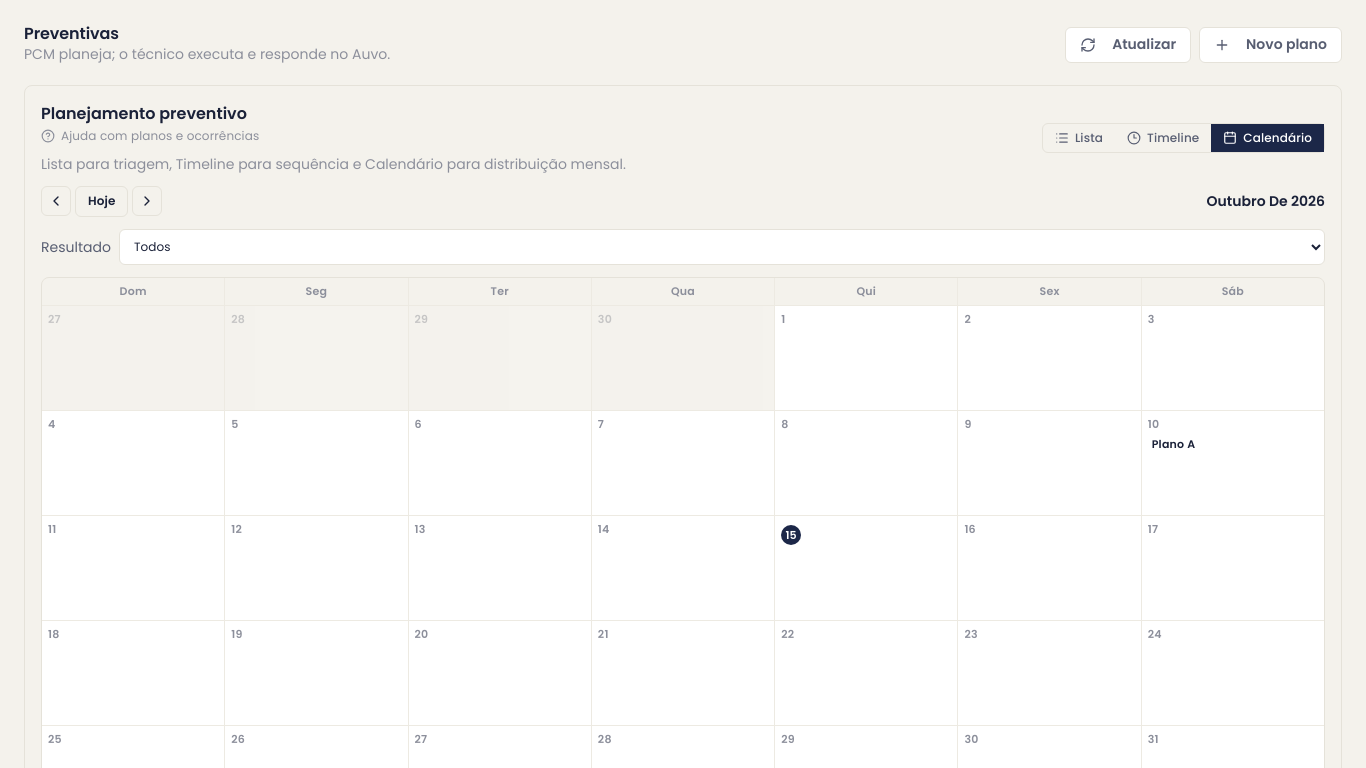
Test case: PreventivasWorkspace — E01-S53 / E01-S163 AC-10 e AC-15 › AC-11: abre a OS associada sem manter o drawer preventivo sobreposto
Click the button "Calendário" at (1268, 138), box [1211,124,1324,152]
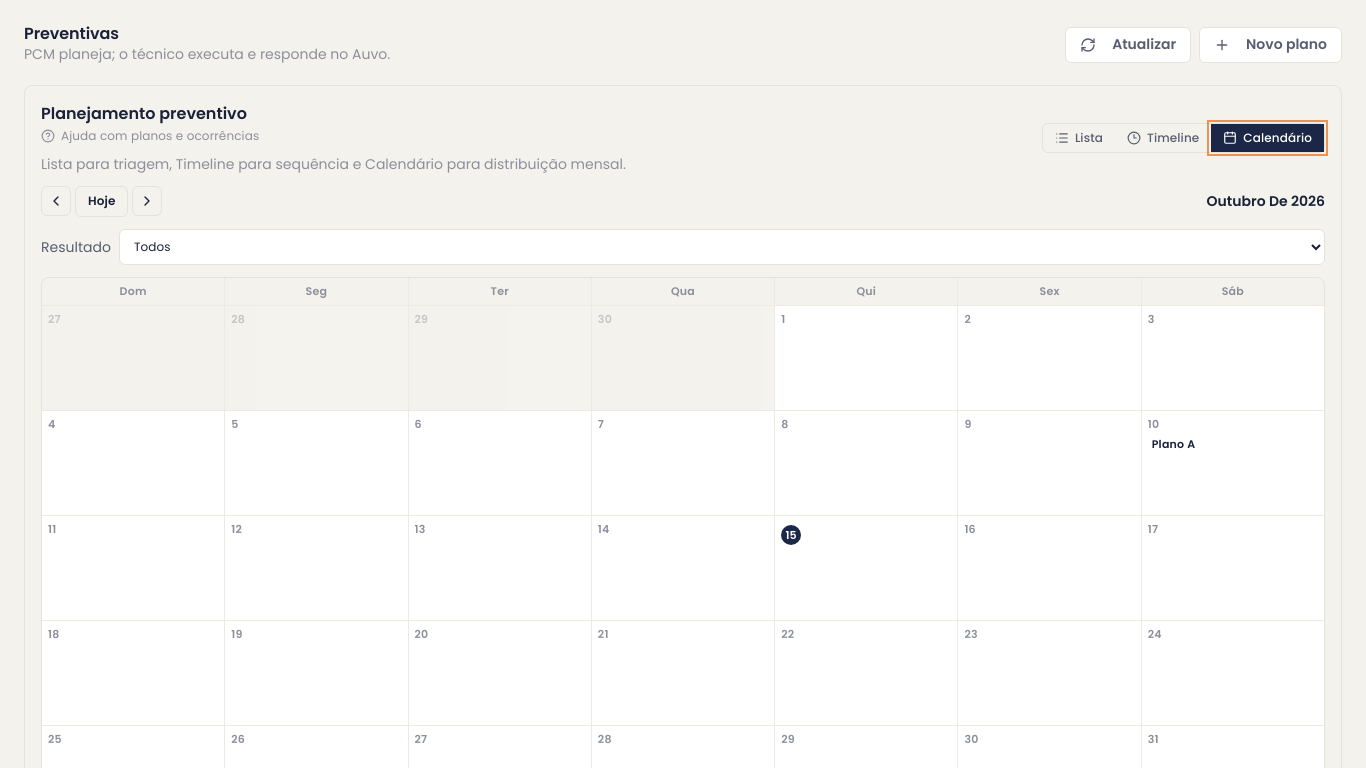
Click the button with aria-label "Plano A: No Auvo" at (1233, 445), box [1148,436,1318,454]
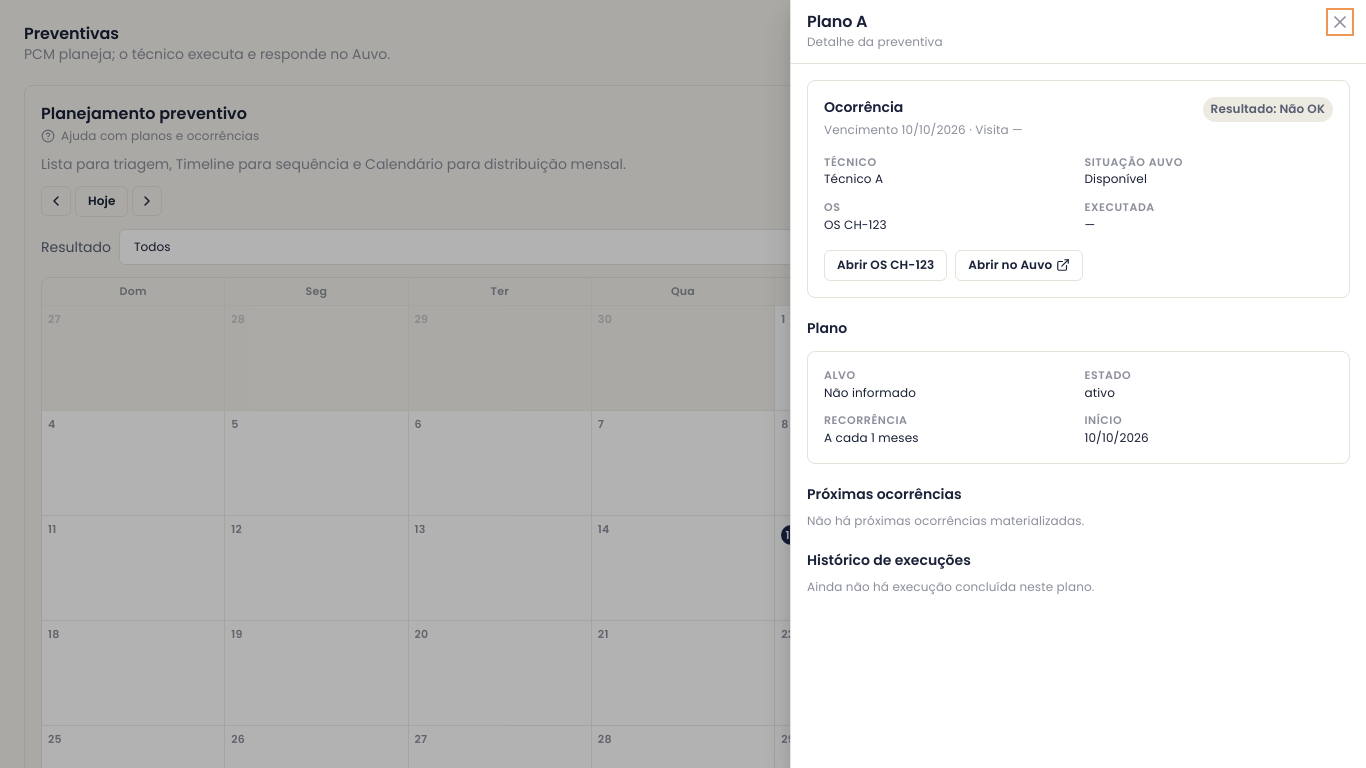
Click the button "Abrir OS CH-123" at (886, 265), box [824,250,947,281]
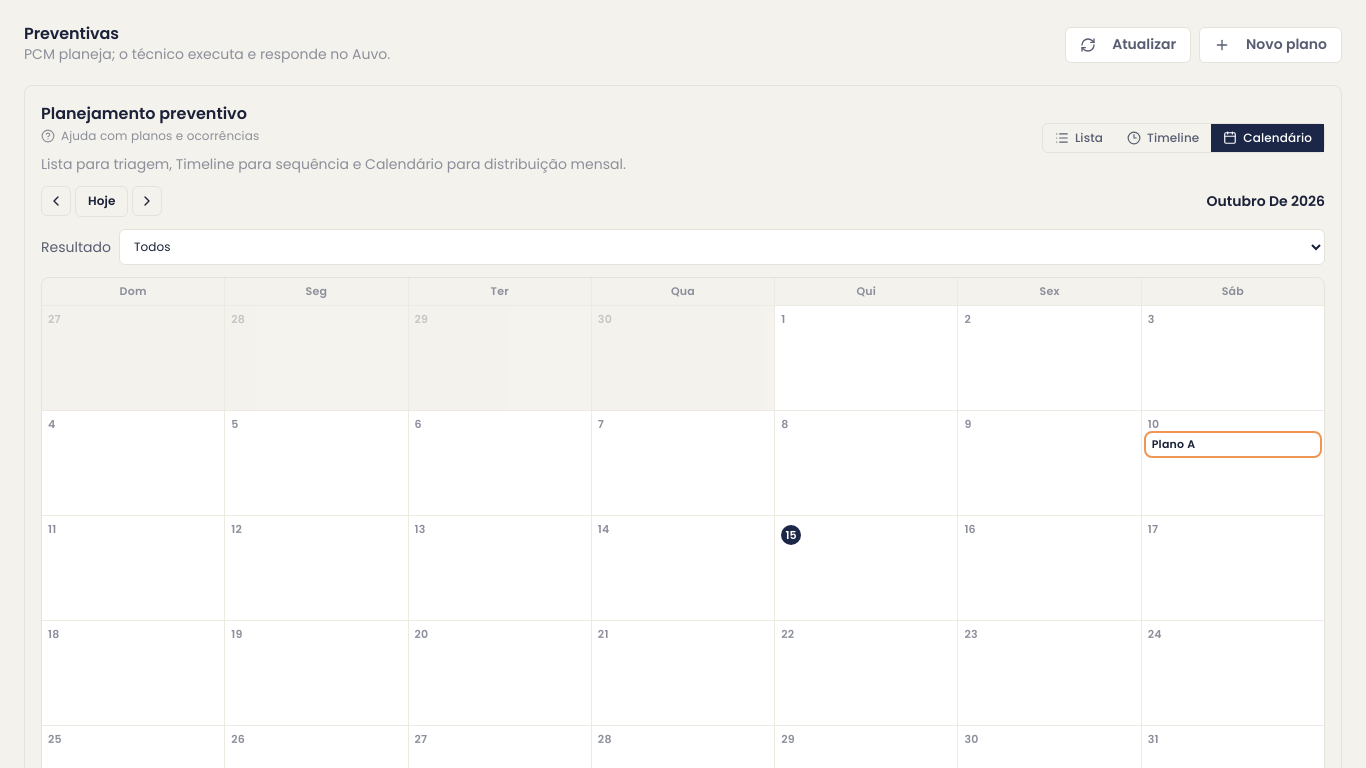
Expected: the text "Detalhe da preventiva" is gone
